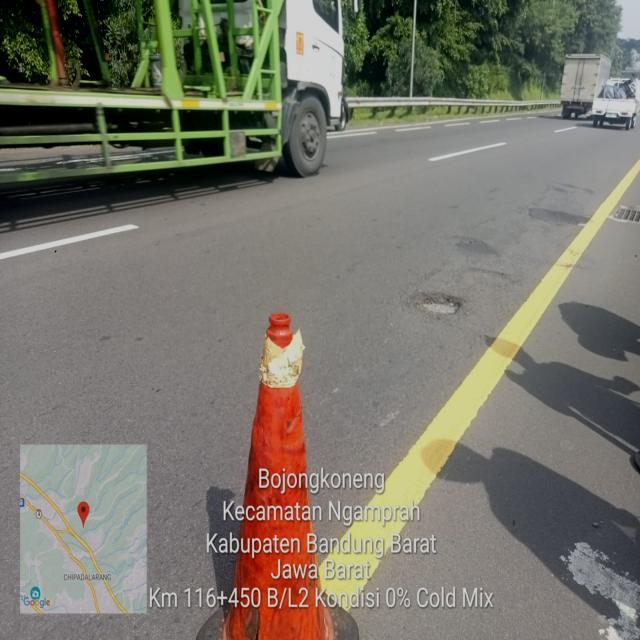Buraco: (408, 290, 468, 320)
